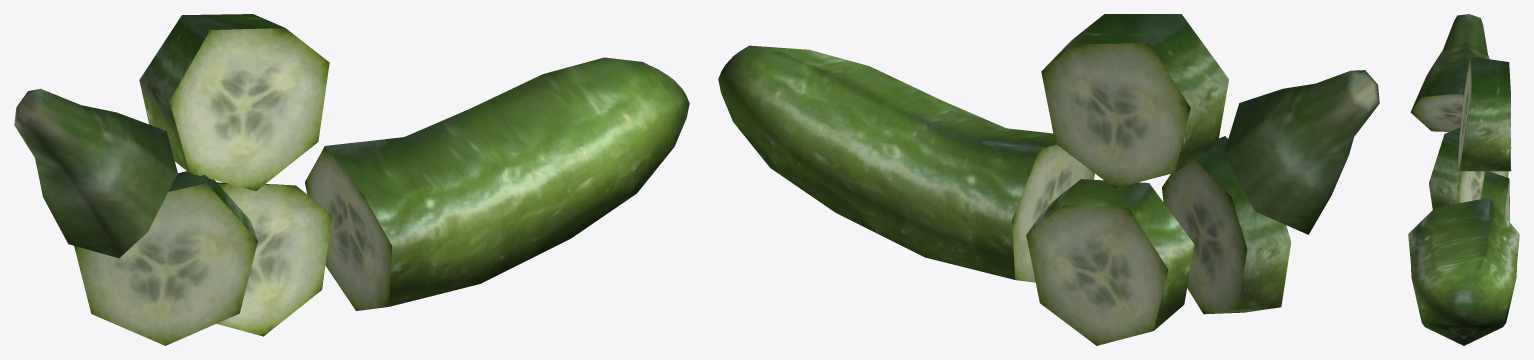
Rendered from Cuted cucumber.obj.
The picture shows the model from 3 angles, left to right: view 1: azimuth 30°, elevation 25°; view 2: azimuth 150°, elevation 25°; view 3: azimuth 270°, elevation 25°; orthographic projection. The views are drawn at different scales.
Visible parts, largest first — view 1: Cucumber01:0; view 2: Cucumber01:0; view 3: Cucumber01:0.
Boxes of the visible parts, x1=… form: Cucumber01:0: x1=14, y1=14, x2=689, y2=345; Cucumber01:0: x1=718, y1=14, x2=1379, y2=345; Cucumber01:0: x1=1408, y1=14, x2=1519, y2=345.
Size of the model in its own units: 21.17 by 9.97 by 4.83.
